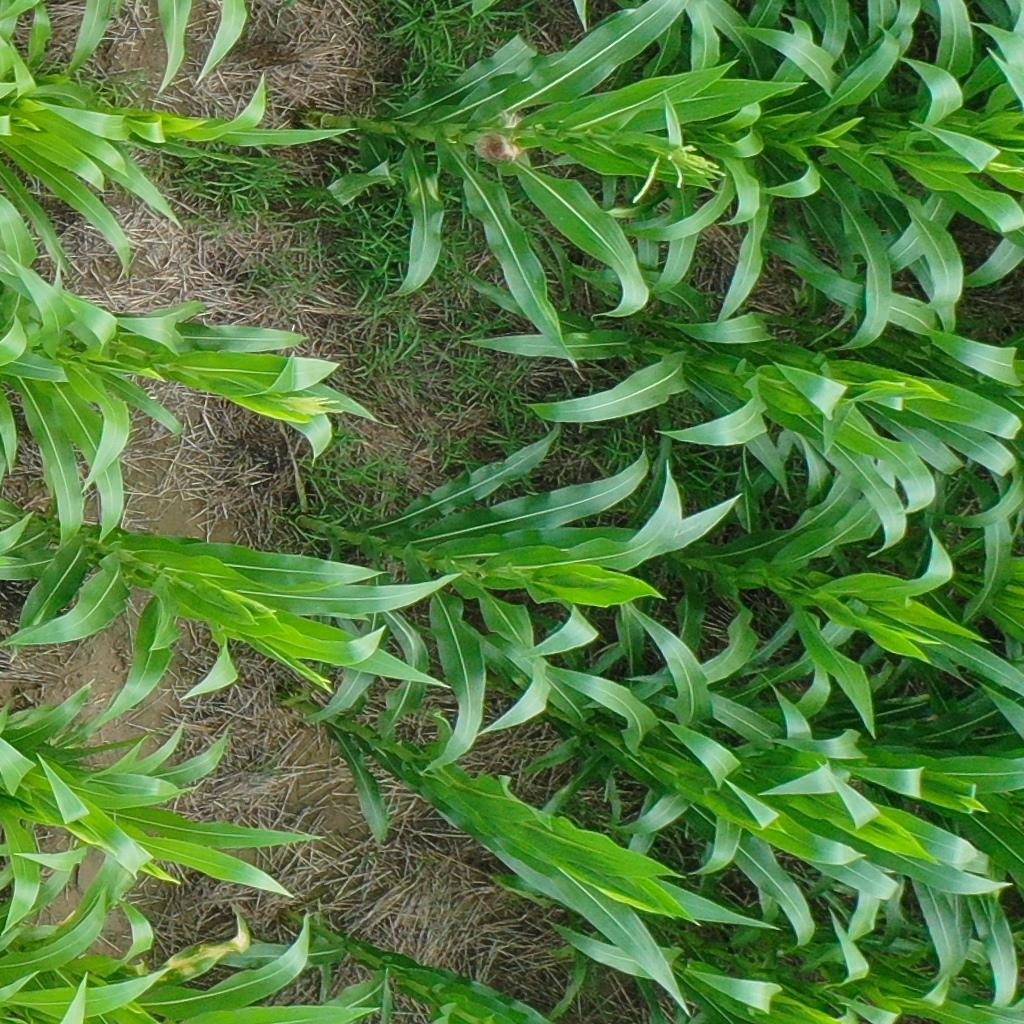Tassel: (630, 140, 728, 201), (274, 390, 346, 422)
